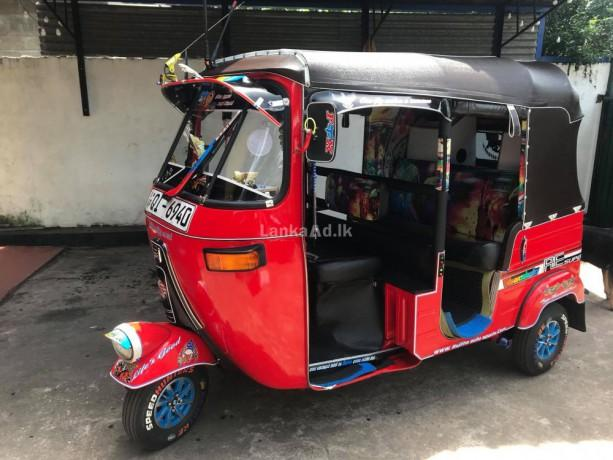threewheel: (103, 48, 587, 451)
